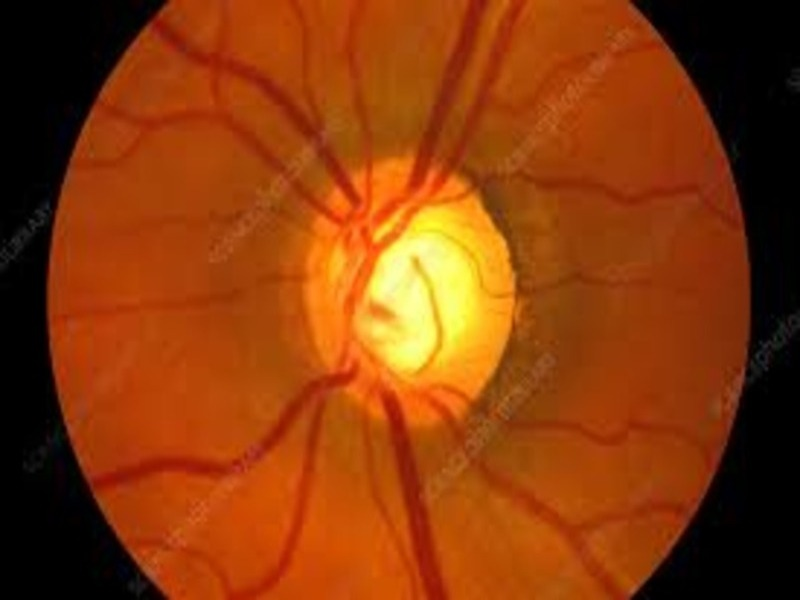Optic Cup: (368, 209, 477, 374)
Optic Disc: (302, 154, 514, 425)
